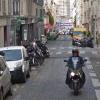Motorcycle: (55, 45, 88, 95)
